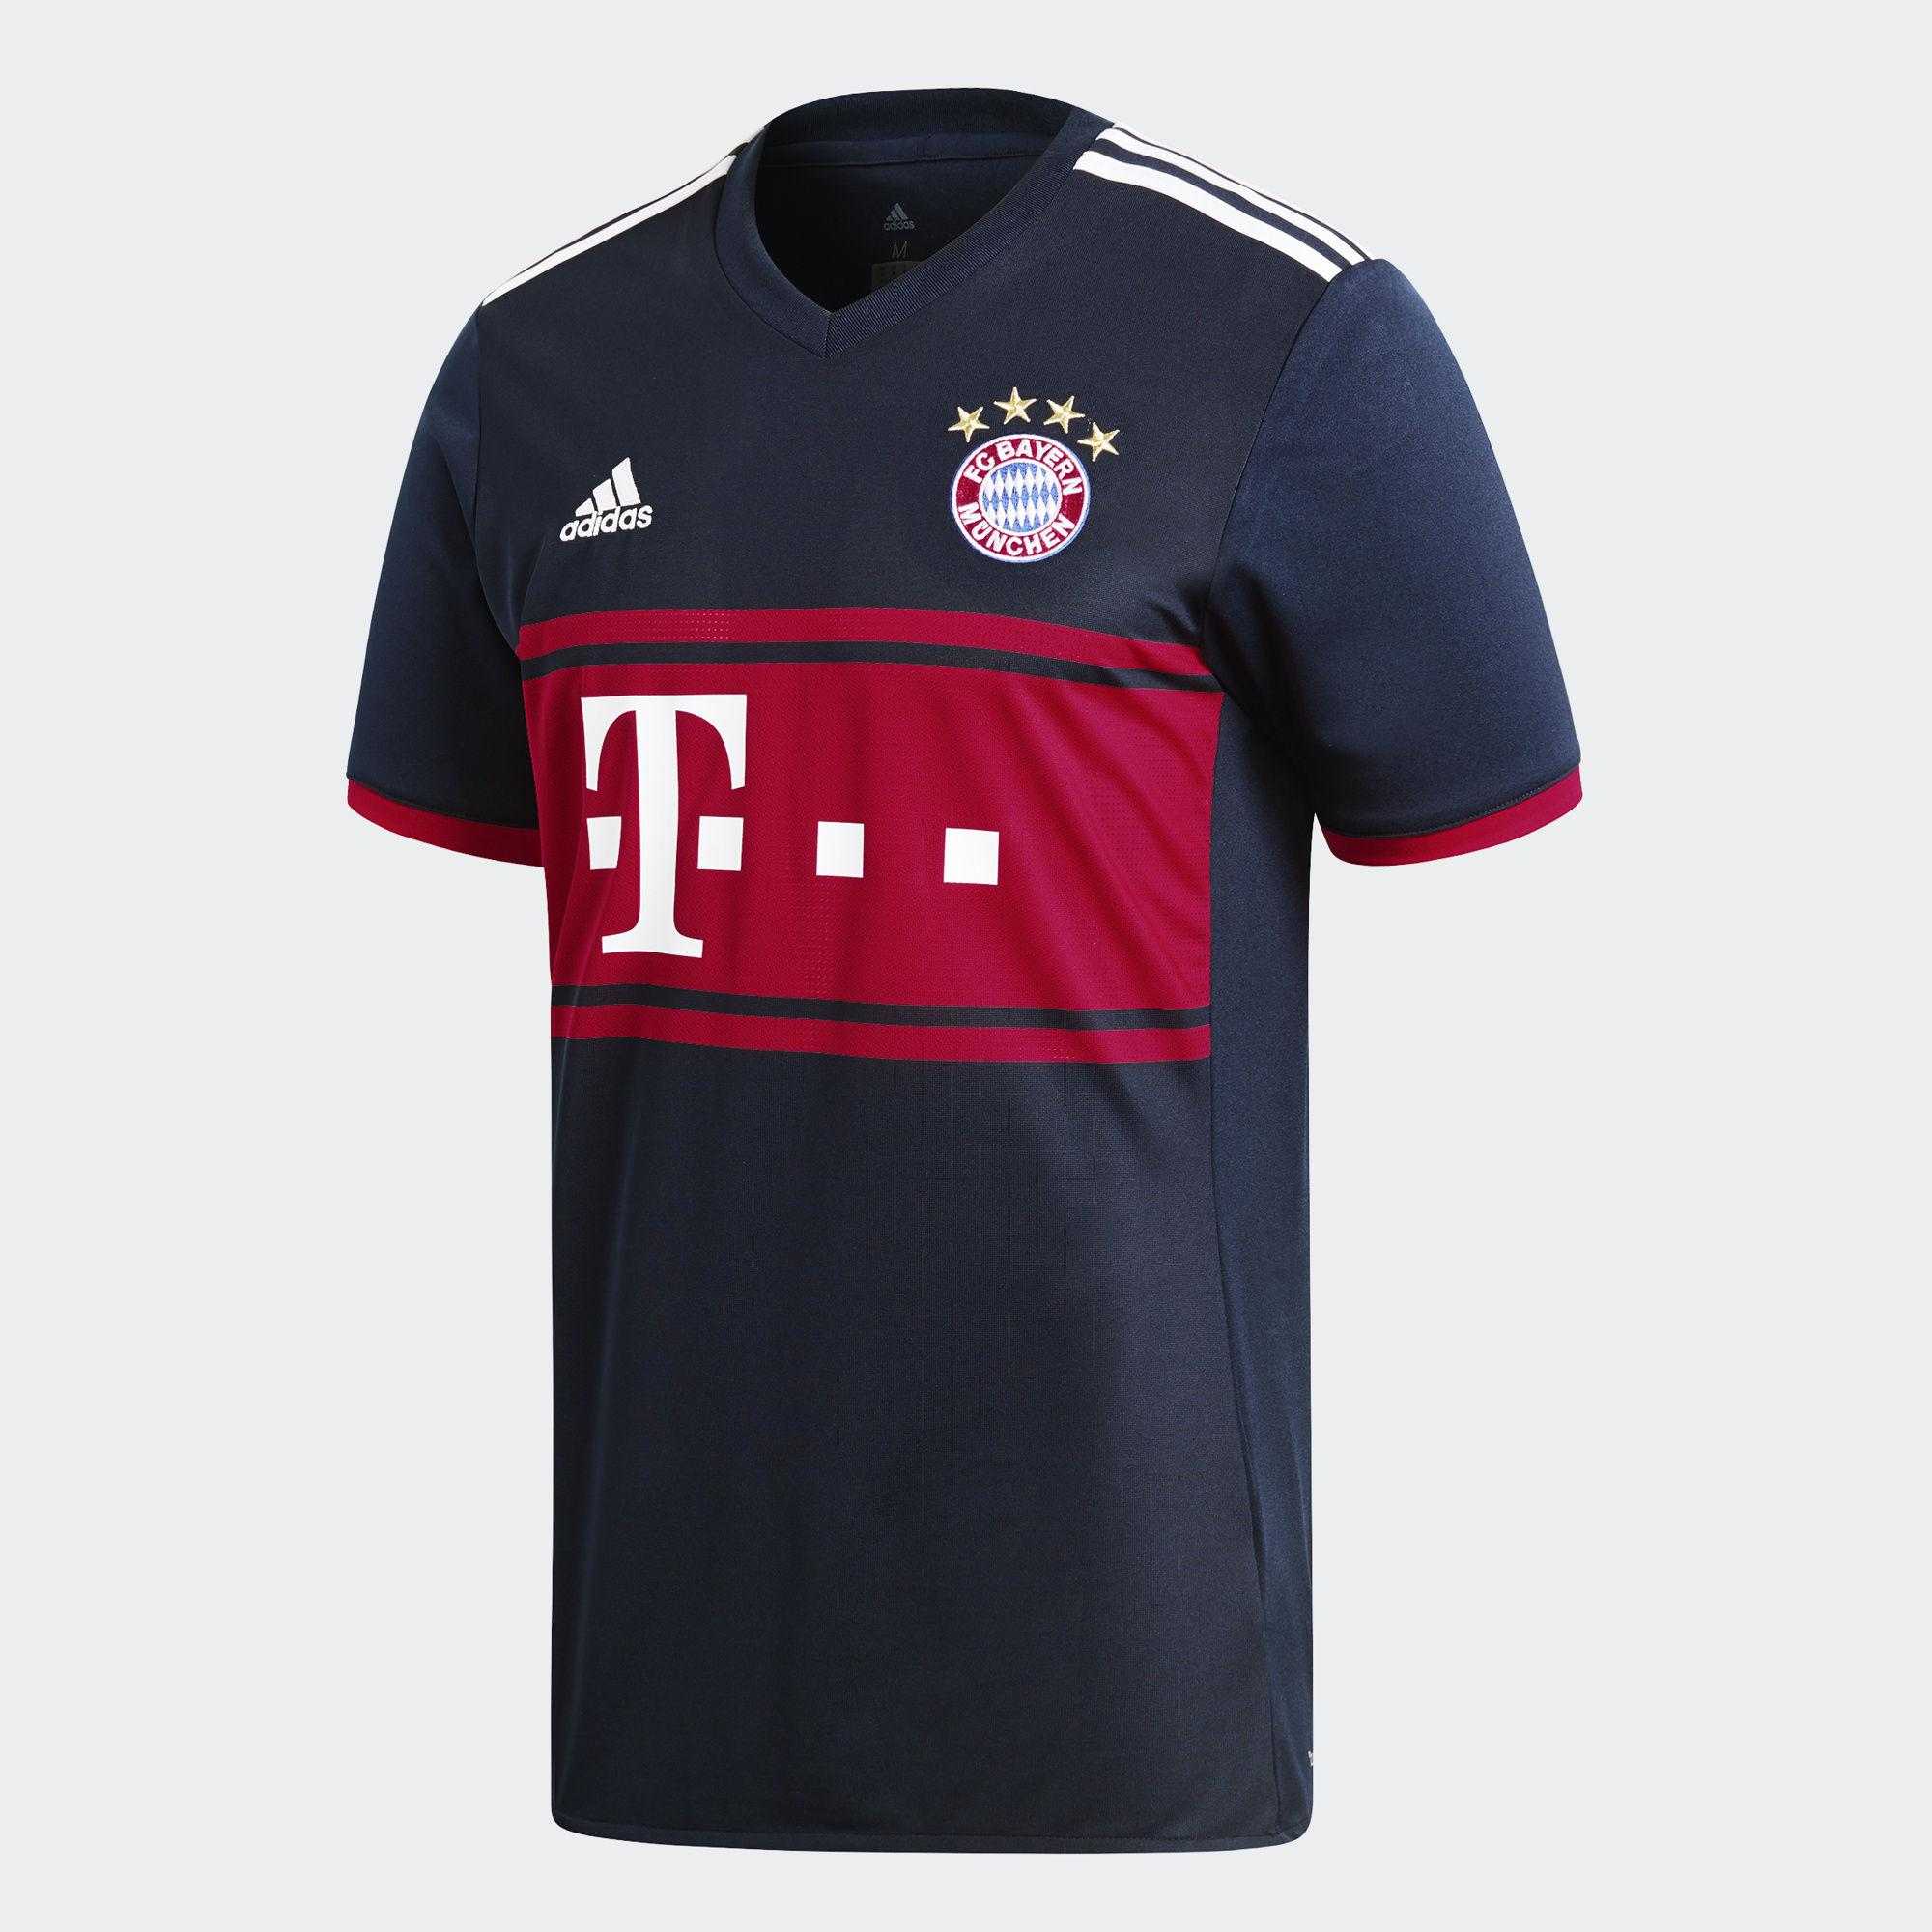teeshirt: (313, 90, 1568, 1893)
